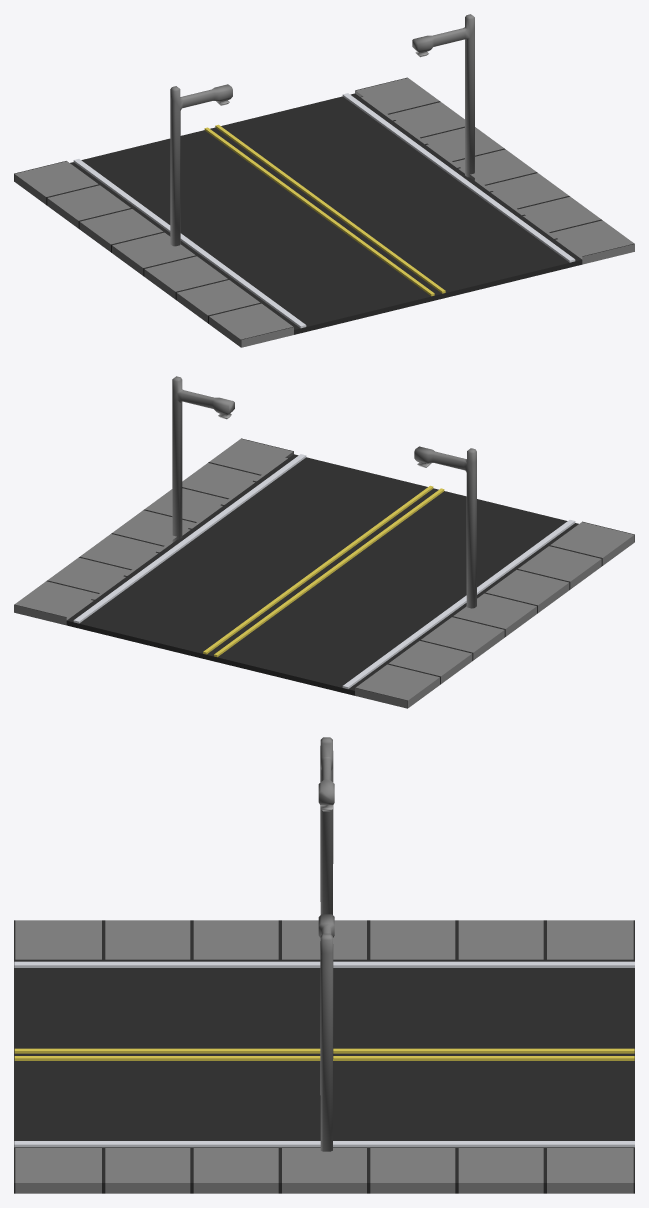
Rendered from StraightRoad.fbx.
3 renders of one model, top to bottom at view 1: azimuth 30°, elevation 25°; view 2: azimuth 150°, elevation 25°; view 3: azimuth 270°, elevation 25°, orthographic. The views are drawn at different scales.
Parts seen in each view (by area): view 1: Plane.002; view 2: Plane.002; view 3: Plane.002.
Boxes of the visible parts, x1=… form: Plane.002: x1=14, y1=14, x2=634, y2=347; Plane.002: x1=14, y1=376, x2=634, y2=708; Plane.002: x1=14, y1=737, x2=634, y2=1193.
Size of the model in its own units: 1000 by 1000 by 400.
